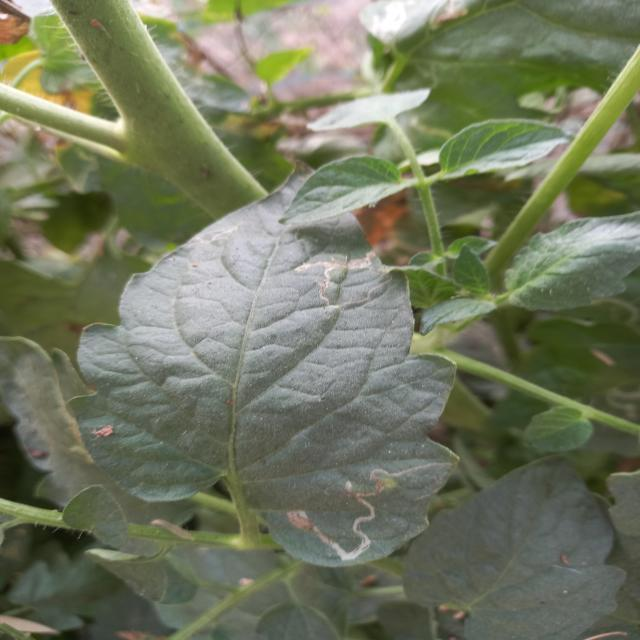Tuta absoluta: (285, 476, 390, 578), (294, 222, 379, 305), (365, 448, 434, 496)
